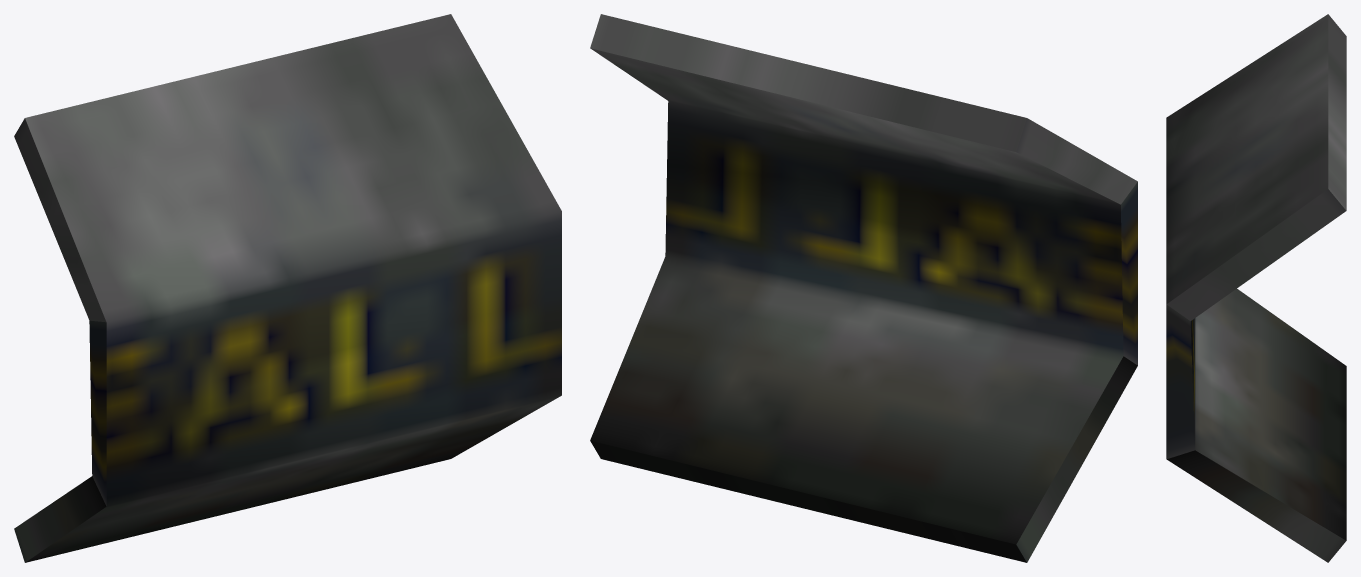
Rendered from Shared - Armor - Tanker Truck - Damage State 43 - CVTanker_d43.glb.
3 views of the same model, side by side, from view 1: azimuth 30°, elevation 25°; view 2: azimuth 150°, elevation 25°; view 3: azimuth 270°, elevation 25° (orthographic). The views are drawn at different scales.
Visible parts, largest first — view 1: CVTANKER_D43; view 2: CVTANKER_D43; view 3: CVTANKER_D43.
Part boxes in pixels (bbox=[...]): CVTANKER_D43: bbox=[14, 14, 561, 562]; CVTANKER_D43: bbox=[590, 14, 1137, 562]; CVTANKER_D43: bbox=[1166, 14, 1346, 562].
Bounding box in the file's own units: 8.57 × 8 × 3.49.
1 material, 1 textured.
